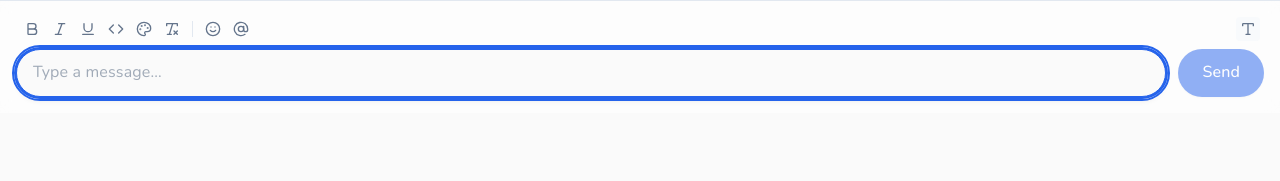
Test: composer formatting toolbar › renders a live preview only once the text contains markup
The width and height of the screenshot is (1280, 181).
Type "plain text" into the field with test id "message-input". click: (591, 73)
box: left=16, top=49, right=1166, bottom=97
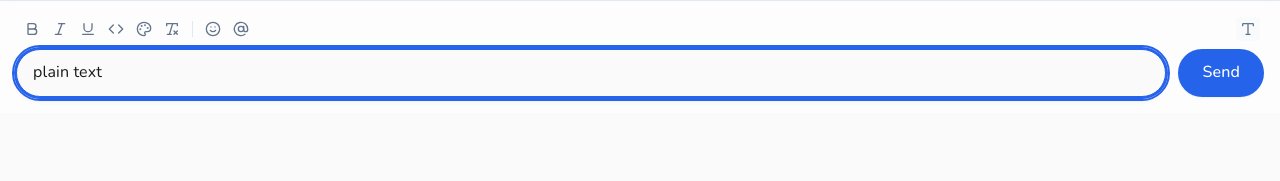
Replace the text in the field with test id "message-input" with "*bold*". click: (591, 73)
box: left=16, top=49, right=1166, bottom=97
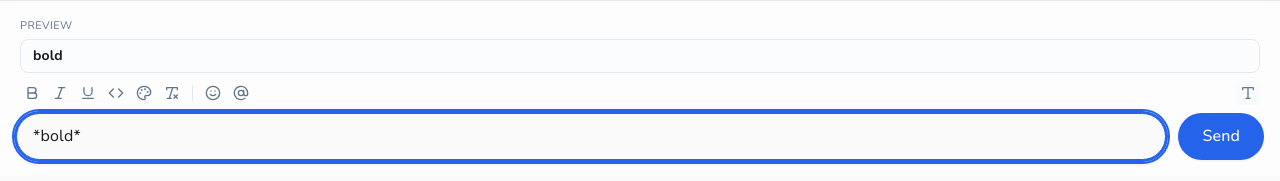
Expected: the element with test id "message-preview" is shown, left=16, top=17, right=1264, bottom=81
